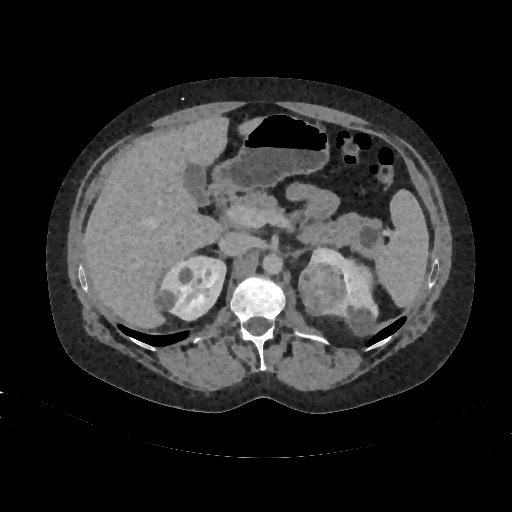Lesion: (295, 261, 352, 320), (149, 286, 182, 316)
